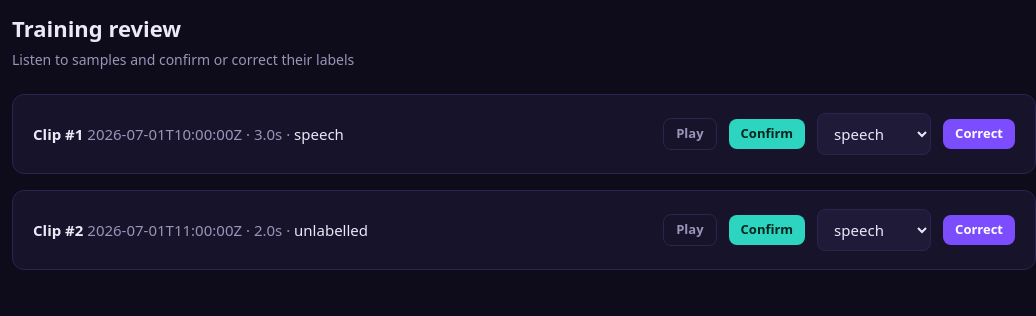
it: training review › correct submits the chosen label and updates the UI
This screenshot has width=1036, height=316.
Check: the element with test id "sample-2" is shown, box [12,190,1035,270]
Check: the text with test id "label-2" reads "unlabelled", box [294,220,368,240]
Select "noise" in the dropdown named "correct label for clip 2" at (874, 230), box [817,209,931,251]
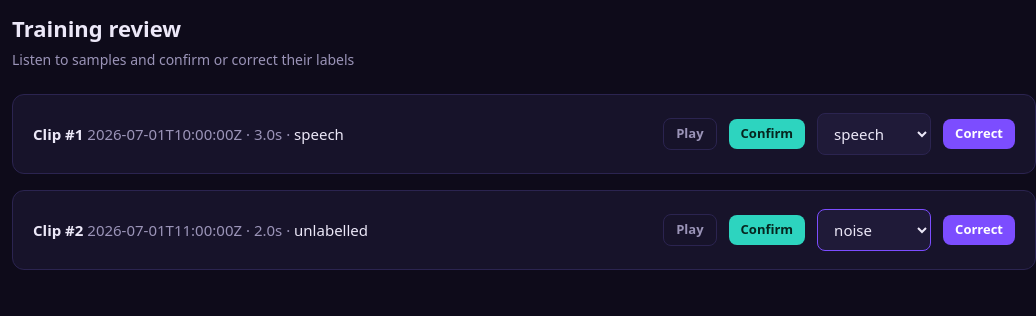
Click the button "Correct" in the row of "unlabelled" at (979, 230), box [943,215,1015,245]
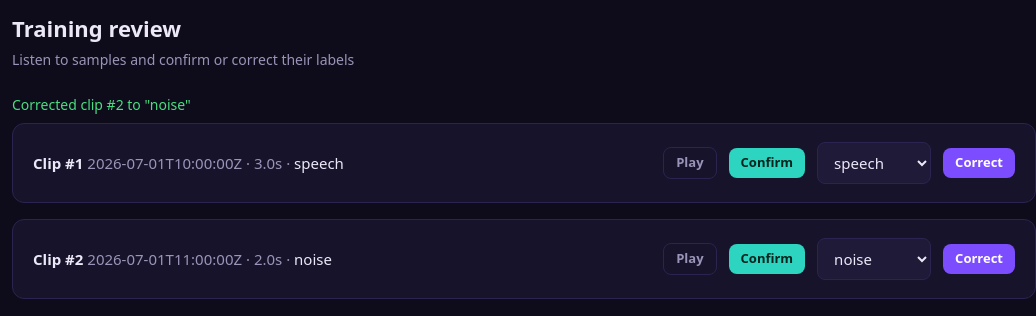
Check: the message reads "Corrected clip #2 to \"noise\"", box [12,95,191,114]
Check: the text with test id "label-2" reads "noise", box [294,249,332,269]
